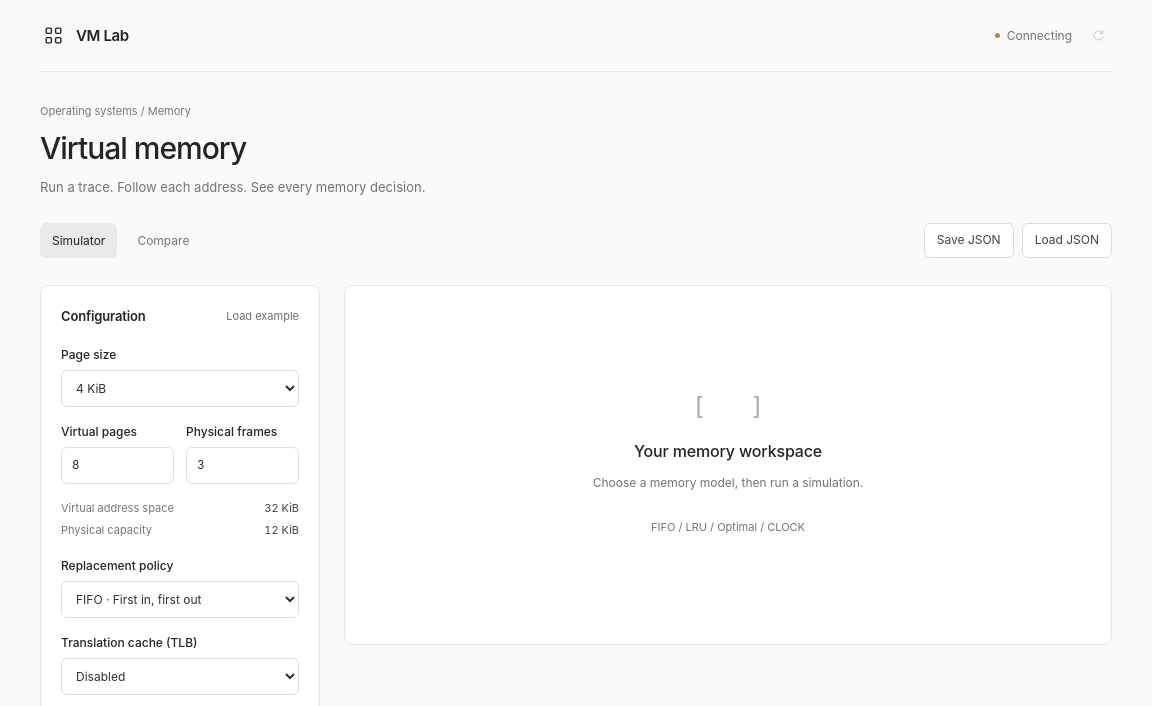
Test: interactive simulation › renders fifo metadata from the selected snapshot
Replace the text in the number field labelled "Physical frames" with "2" at [242, 465], box [186,447,299,484]
(page scrolled)
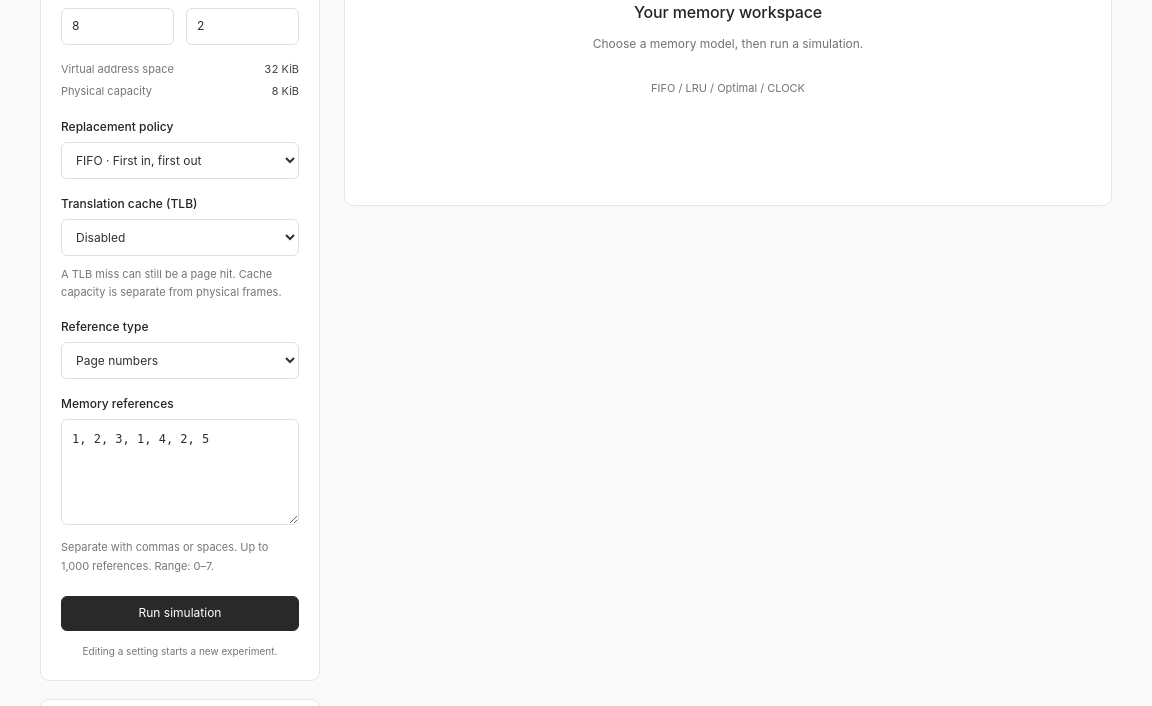
Select "Virtual byte addresses" in the dropdown labelled "Reference type" at [180, 361], box [61,342,299,379]
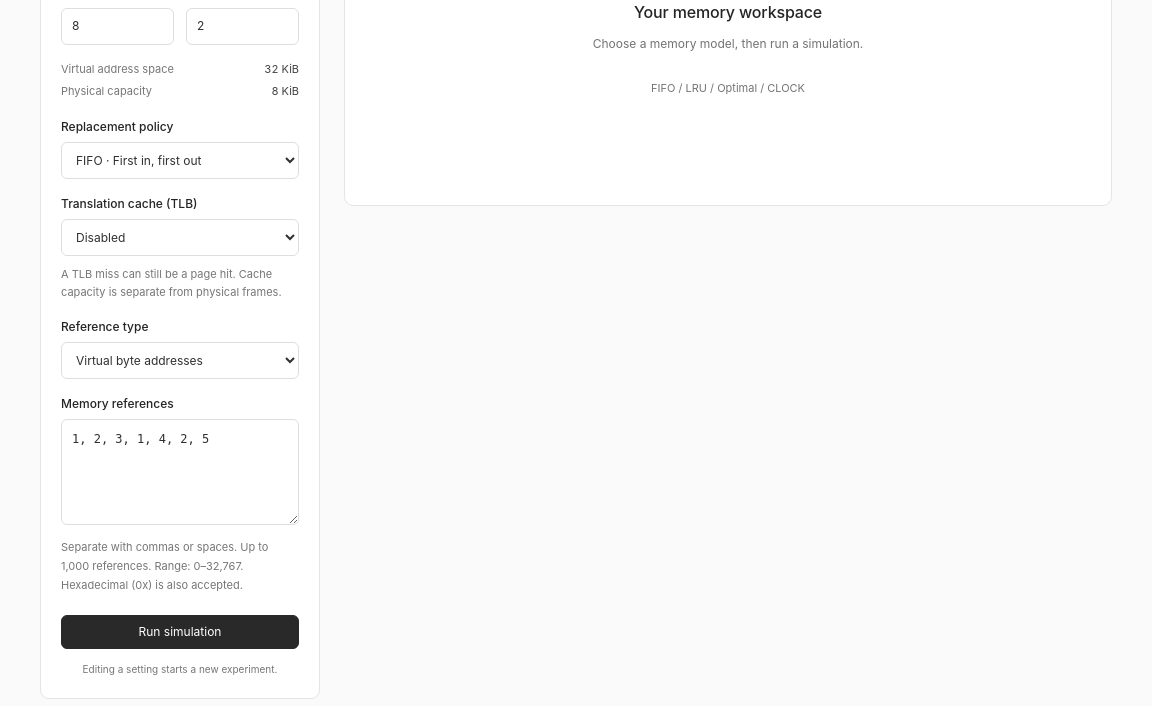
Replace the text in the text box labelled "Memory references" with "0, 4097, 0, 8194" at [180, 472], box [61,419,299,526]
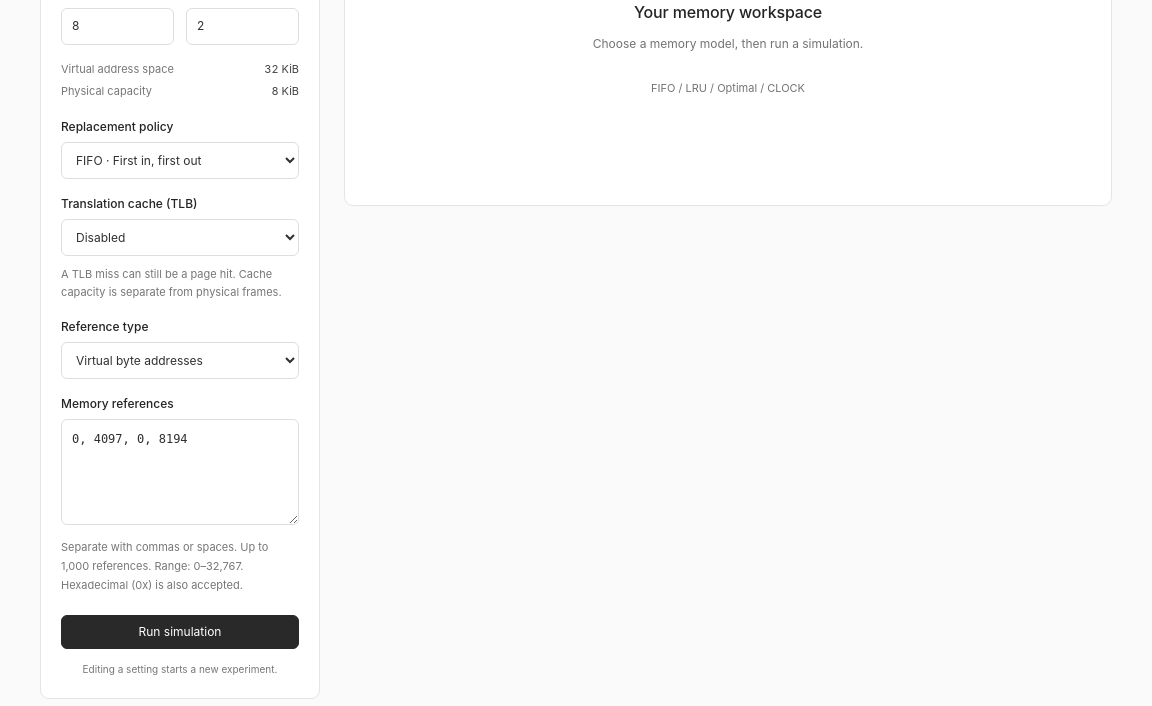
Select "FIFO · First in, first out" in the dropdown labelled "Replacement policy" at [180, 160], box [61,142,299,179]
Click the button "Run simulation".
click(180, 632)  # box [61,614,299,649]
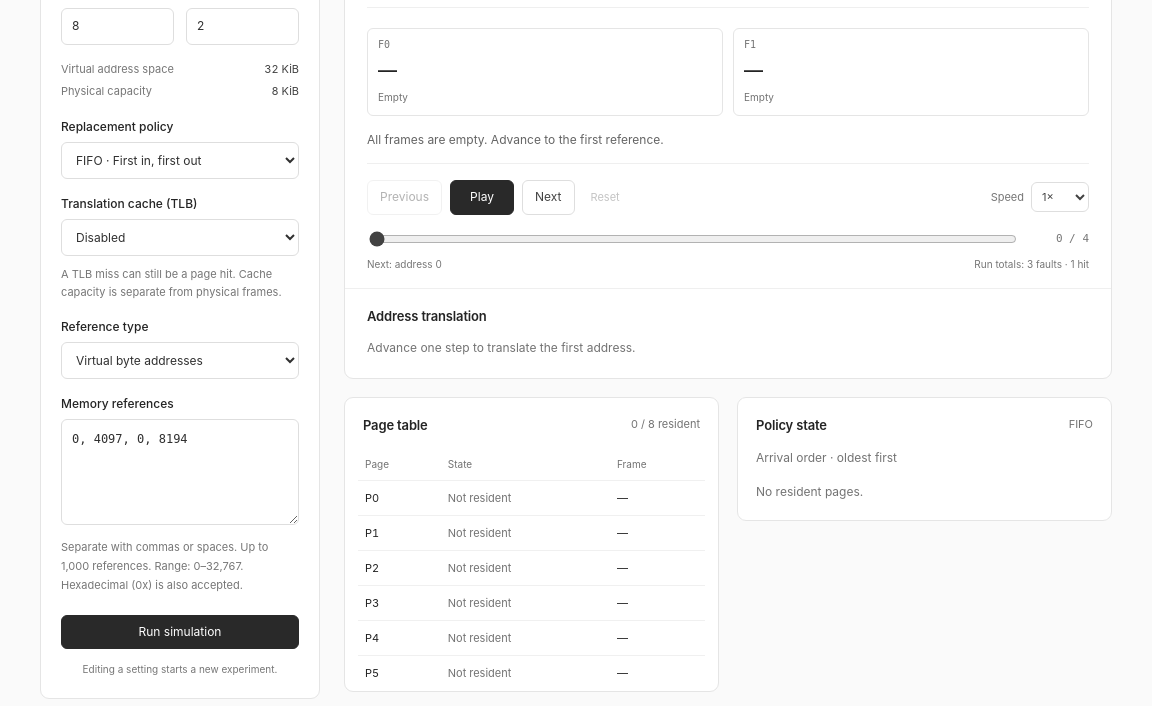
Set the slider named "Simulation step" to "4" at [1009, 239], box [369,231,1017,247]
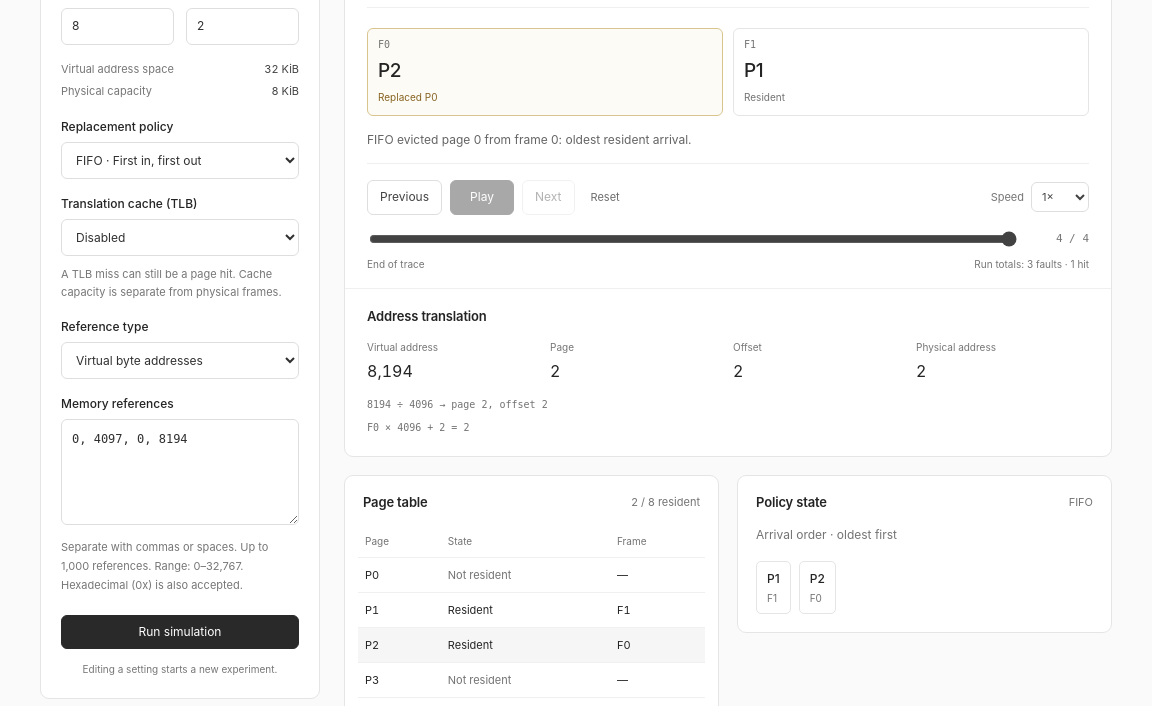
Expected: the element "Policy state" shows "Arrival order", [756,527,897,542]
Click the button "Reset".
click(605, 197)  # box [582,182,628,212]
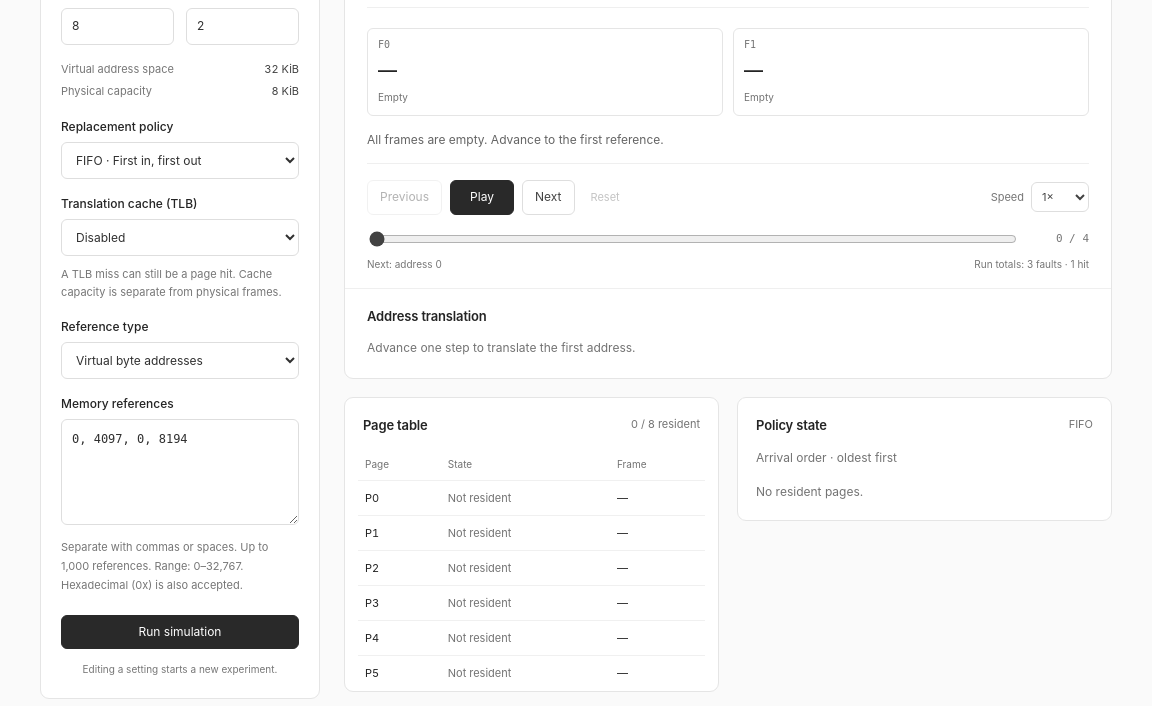
Expected: the element "Policy state" shows "No resident pages.", [756,484,863,499]
